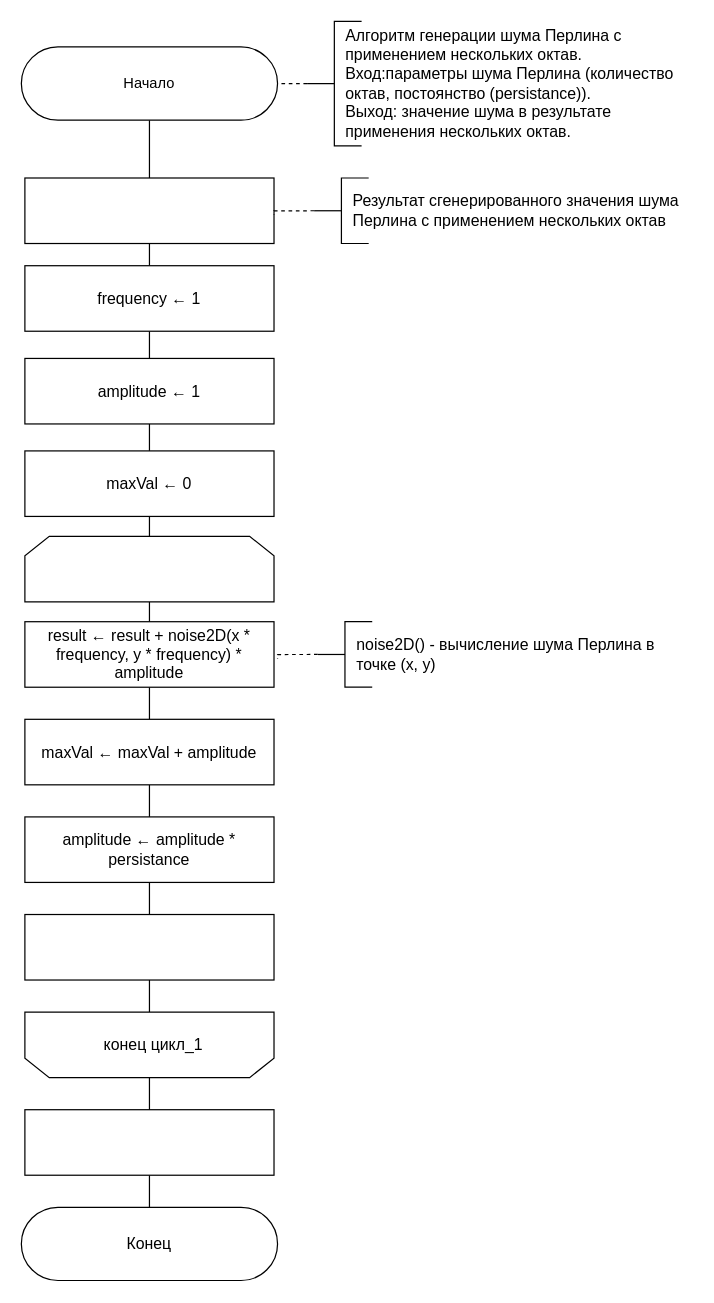
Some shapes in this 714 by 1303 pixel diagram are drawn without their labels. The centre of each missing label's shape, as x and y in pixels:
frequency ← frequency * 2: the point at 149,946
result ← 0: the point at 149,210
вернуть result / maxVal: the point at 149,1141
Цикл по количеству октав; цикл_1: the point at 149,568
